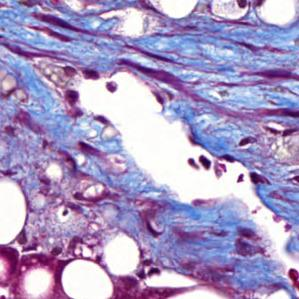steatosis: (60, 258, 111, 299), (0, 176, 28, 246)
